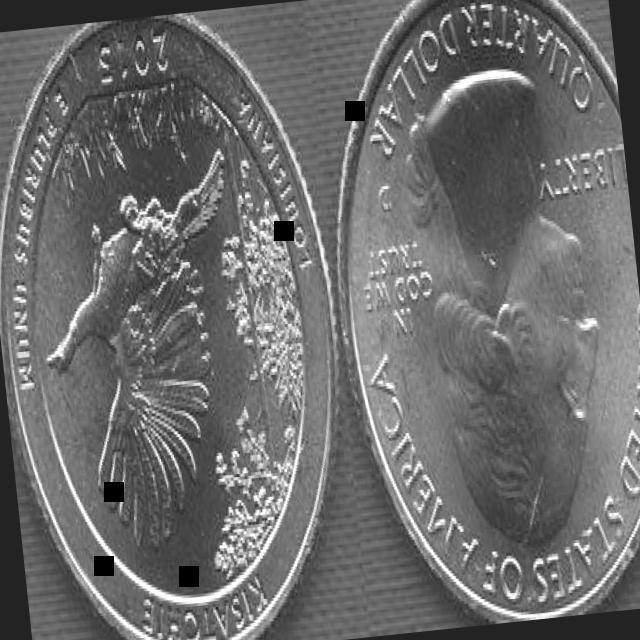Quarter: (0, 0, 368, 640), (304, 0, 640, 636)
